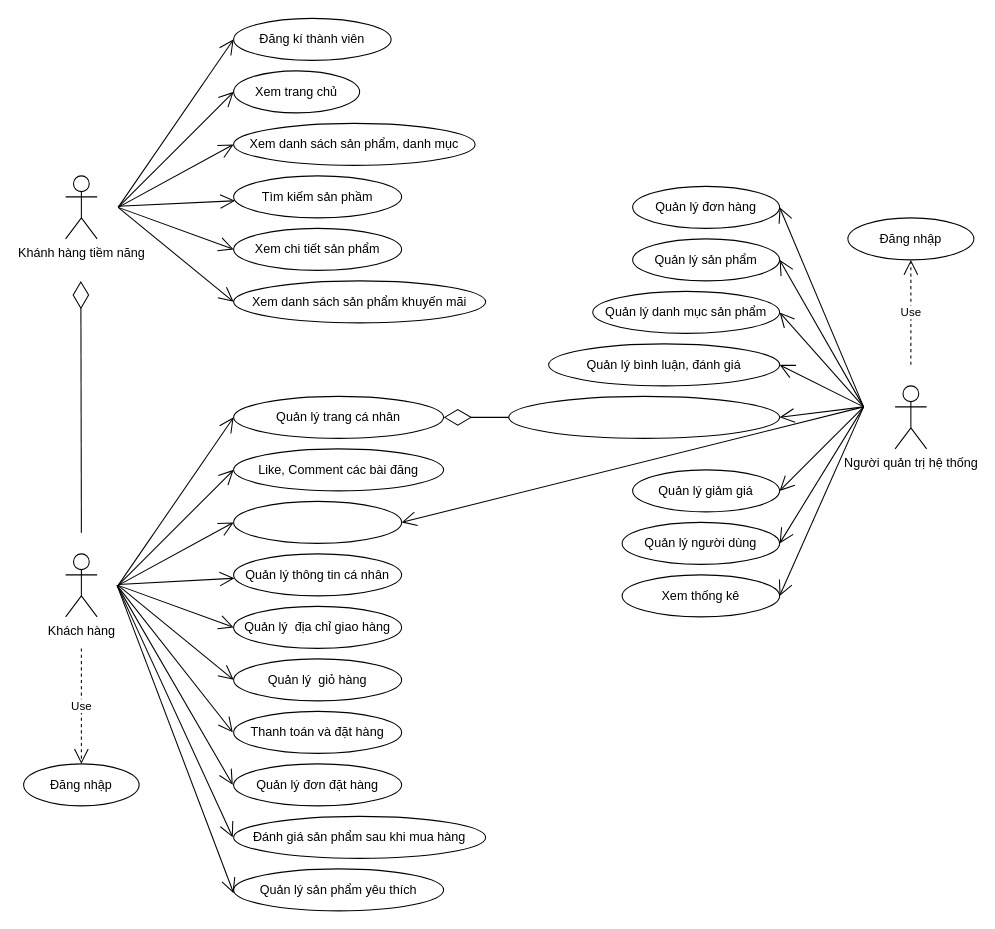
Image size: 995x929. Some labels were removed from this diagram. Here are the shapes that lost their labels. From the top down, the centre of each, then its label:
the point at 644,416: Quản lý bài đăng trên trang cá nhân
the point at 317,521: Chat qua messenger
